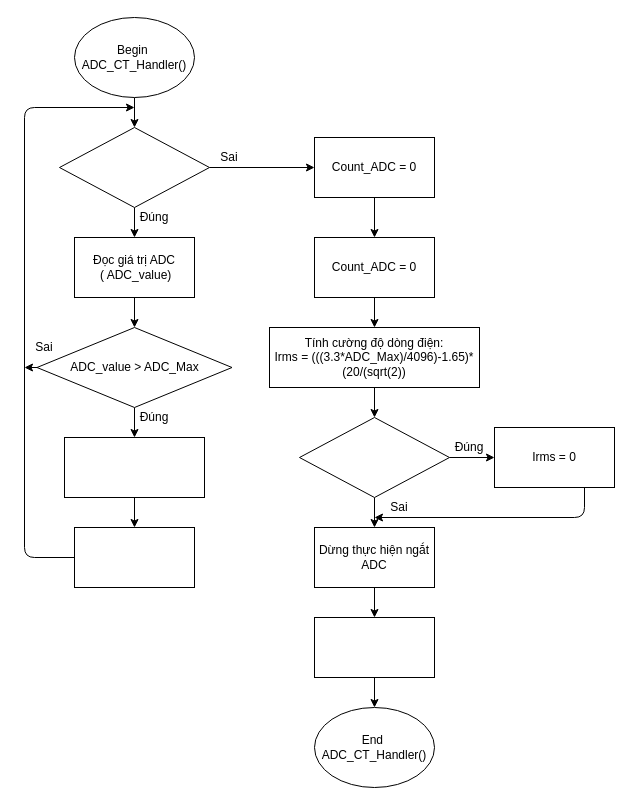
Some shapes in this 632 by 805 pixel diagram are drawn without their labels. The box of each missing label's shape, as (x1, y1, x2, y2) in pixels:
ADC_Max = ADC_value: (64, 436, 204, 498)
Count_ADC ++: (74, 526, 194, 588)
Count_ADC < 700: (58, 126, 210, 208)
flag_ADC = 0 flag_Sent = 1: (314, 616, 434, 678)
Irms < 0: (298, 416, 450, 498)
